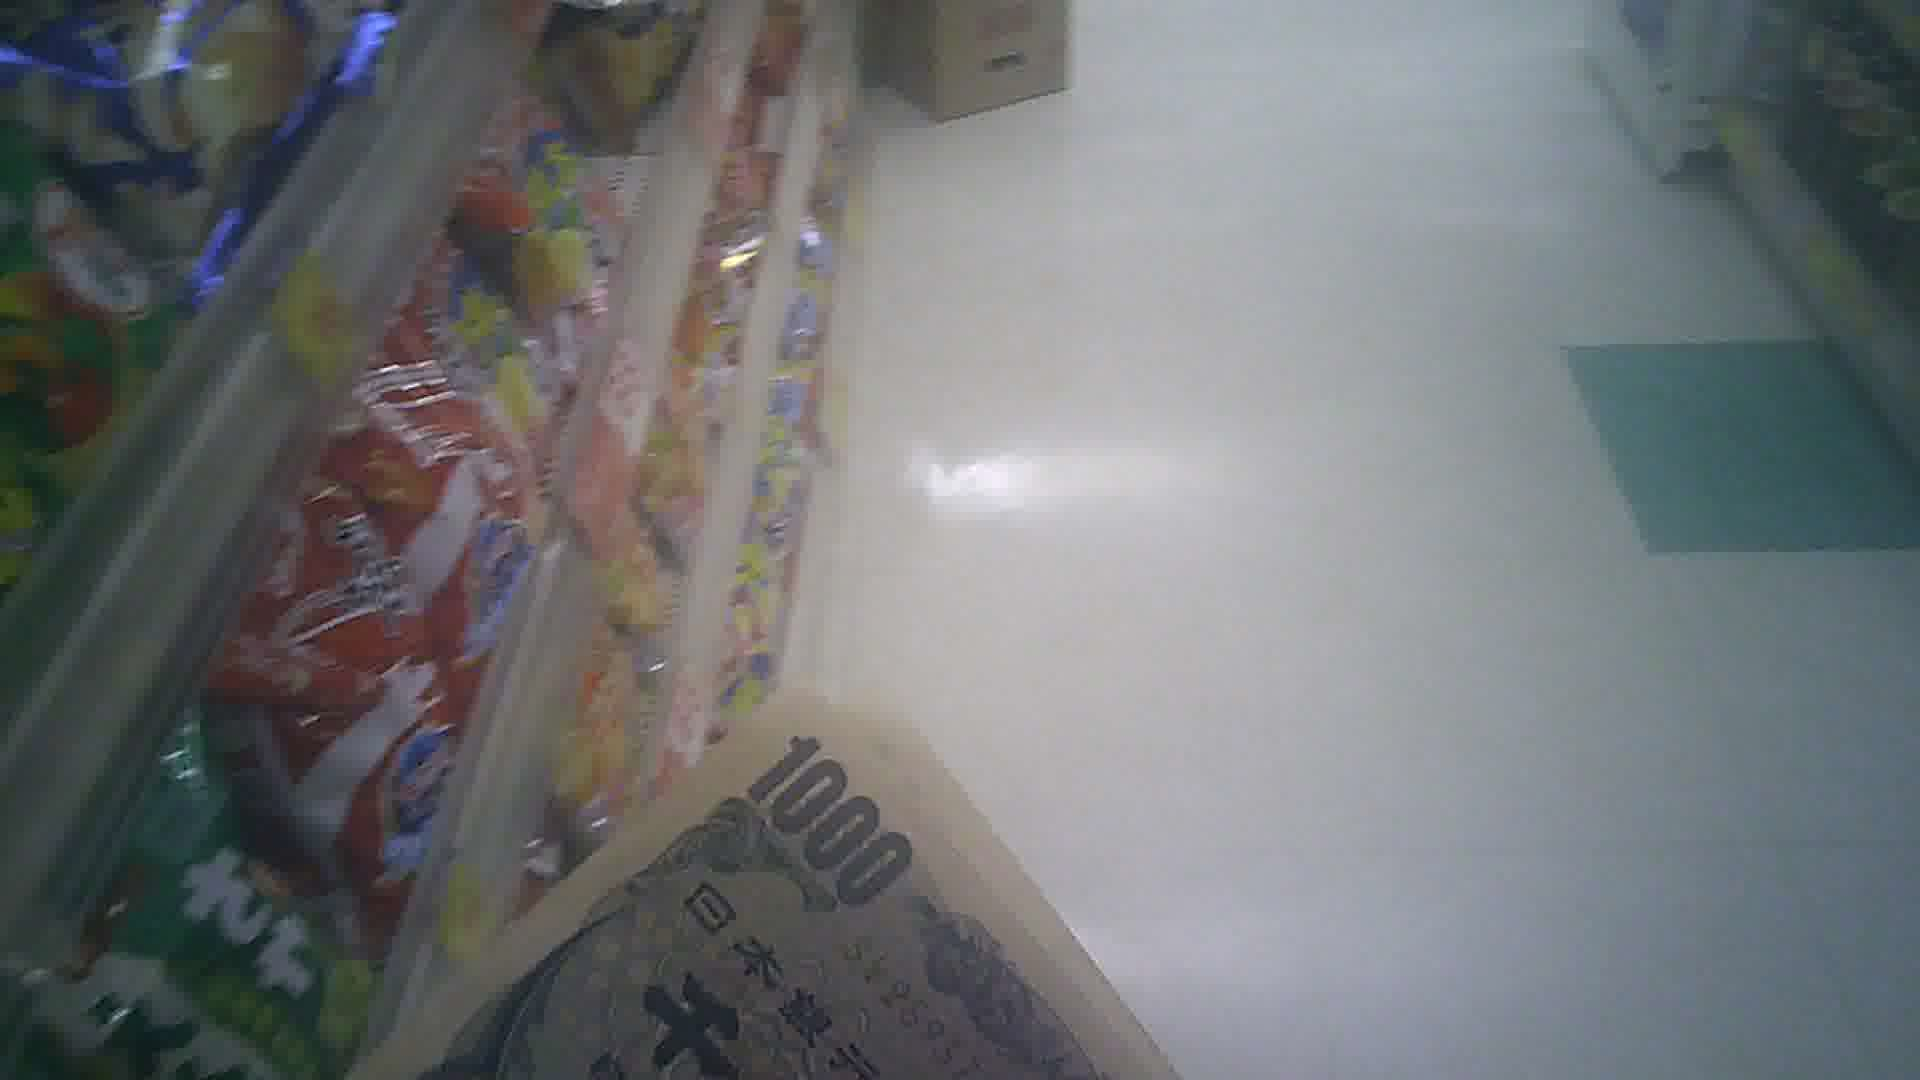1,000 Yen: (381, 676, 1164, 1079)
